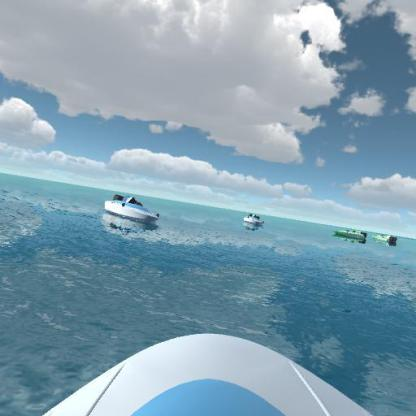usv0: (332, 223, 368, 246), (371, 230, 400, 249)
usv1: (97, 188, 166, 227), (240, 209, 266, 228)
